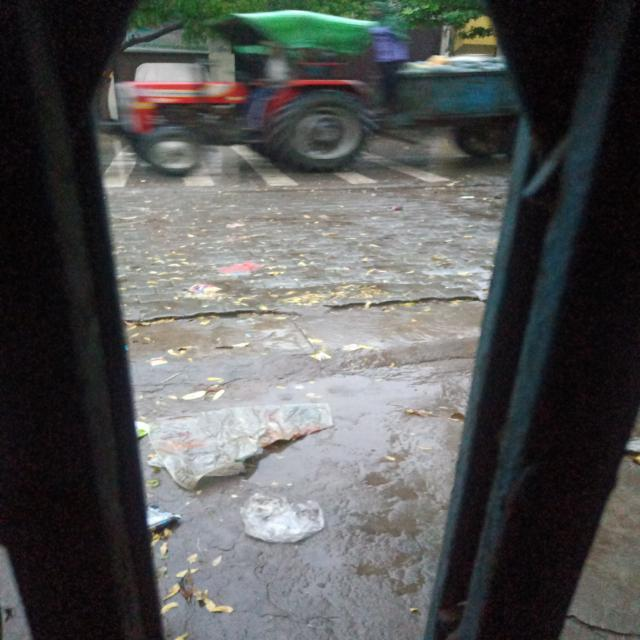Tractor: (129, 42, 492, 181)
